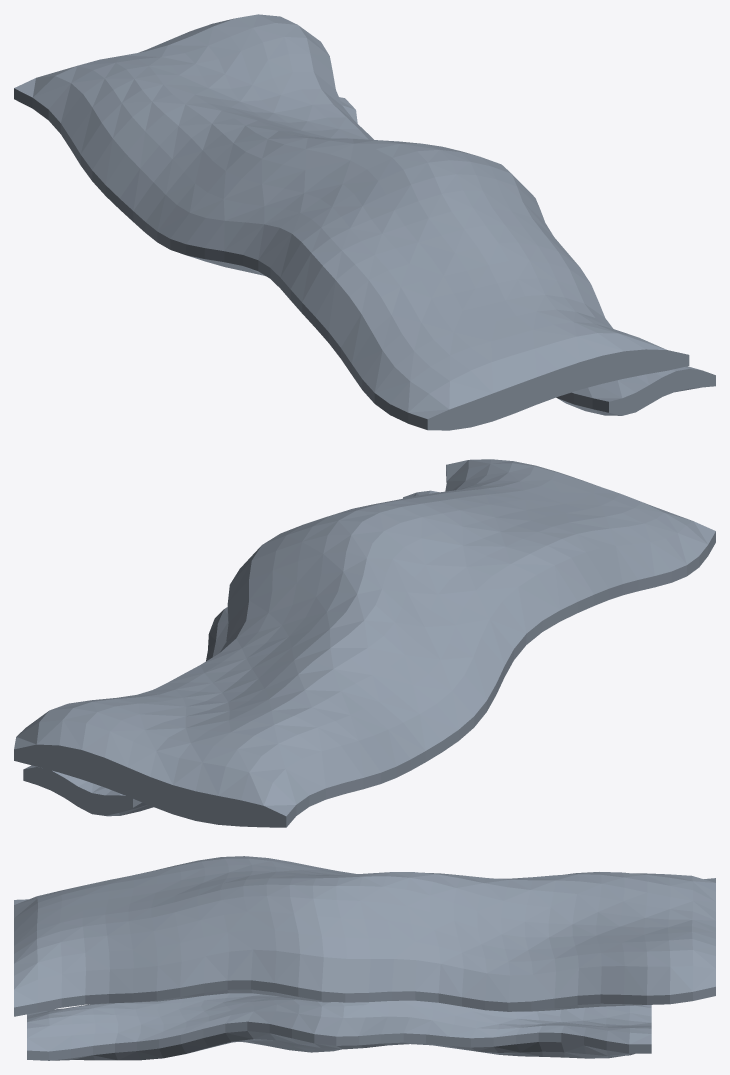
File: storm_front_shelf.glb
3 views of the same model, one above another, from view 1: azimuth 30°, elevation 25°; view 2: azimuth 150°, elevation 25°; view 3: azimuth 270°, elevation 25° (orthographic). The views are drawn at different scales.
Visible parts, largest first — view 1: Connected broad front shelf, Lower corrugated eastern cloud lip; view 2: Connected broad front shelf, Lower corrugated eastern cloud lip; view 3: Connected broad front shelf, Lower corrugated eastern cloud lip.
Boxes of the visible parts, left/top/right/bottom form: Connected broad front shelf: left=14, top=14, right=689, bottom=430; Lower corrugated eastern cloud lip: left=339, top=97, right=715, bottom=415; Connected broad front shelf: left=14, top=459, right=715, bottom=827; Lower corrugated eastern cloud lip: left=23, top=490, right=438, bottom=816; Connected broad front shelf: left=14, top=856, right=715, bottom=1016; Lower corrugated eastern cloud lip: left=27, top=993, right=651, bottom=1060.
Size of the model in its own units: 1055 by 568 by 2460.
